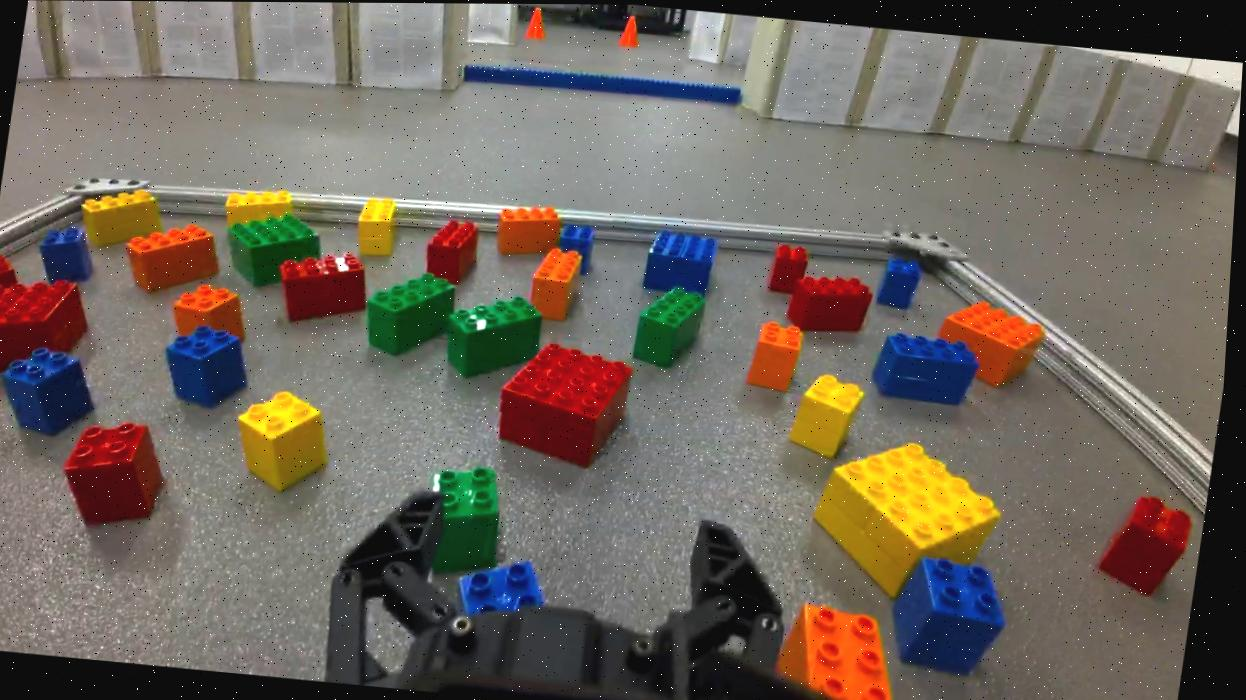2x2lego: (890, 550, 1022, 677), (61, 416, 179, 532), (231, 383, 344, 495), (1100, 486, 1205, 597), (424, 460, 515, 577), (0, 342, 109, 439), (162, 318, 259, 408), (793, 369, 872, 458), (749, 318, 810, 392), (39, 222, 104, 280), (175, 281, 251, 329), (877, 253, 926, 308), (770, 241, 812, 292), (560, 218, 600, 252)
2x4lego: (124, 215, 233, 300), (366, 264, 463, 358), (872, 328, 987, 405), (275, 245, 376, 330), (447, 285, 552, 359), (635, 280, 711, 372), (790, 269, 880, 332), (530, 243, 589, 318), (80, 184, 169, 231), (496, 202, 565, 259), (426, 213, 485, 278), (355, 193, 404, 256), (228, 183, 299, 216)
4x4lego: (812, 430, 1020, 565), (496, 336, 641, 470), (0, 271, 98, 352), (943, 291, 1055, 348), (643, 224, 722, 295), (229, 207, 331, 257)
